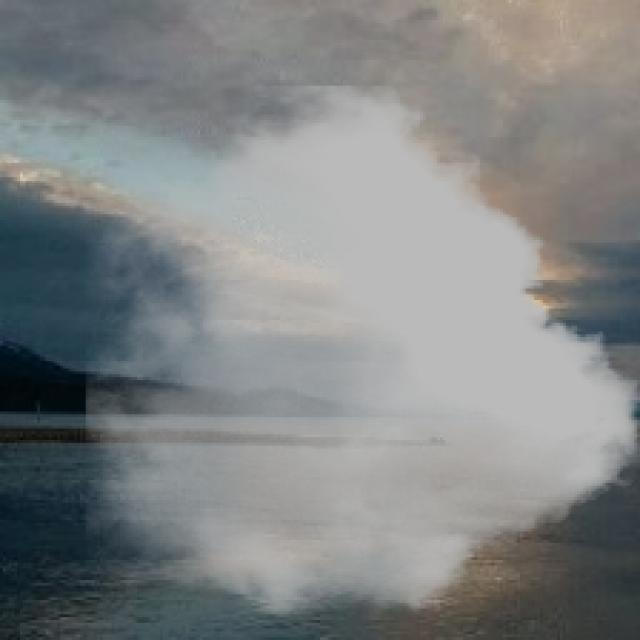Smoke: (85, 86, 638, 623)
